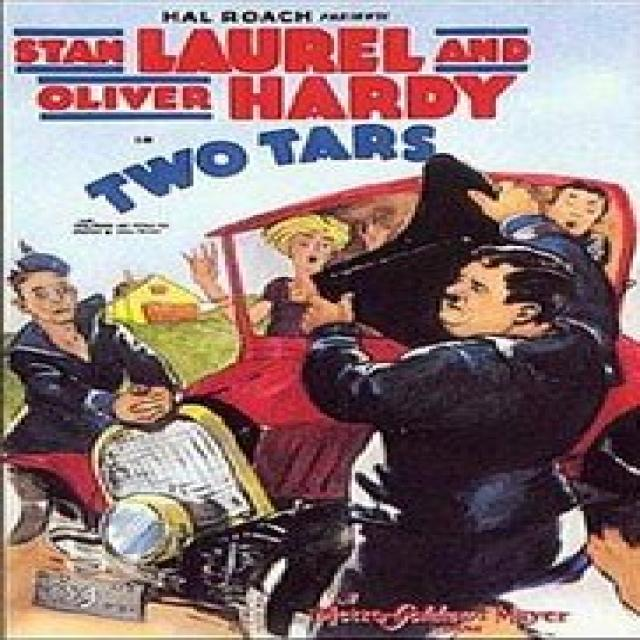movie-judul: (0, 186, 640, 600), (0, 2, 516, 210)
